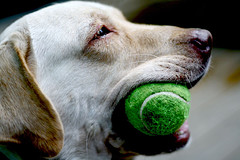tennis ball: (123, 74, 192, 137)
